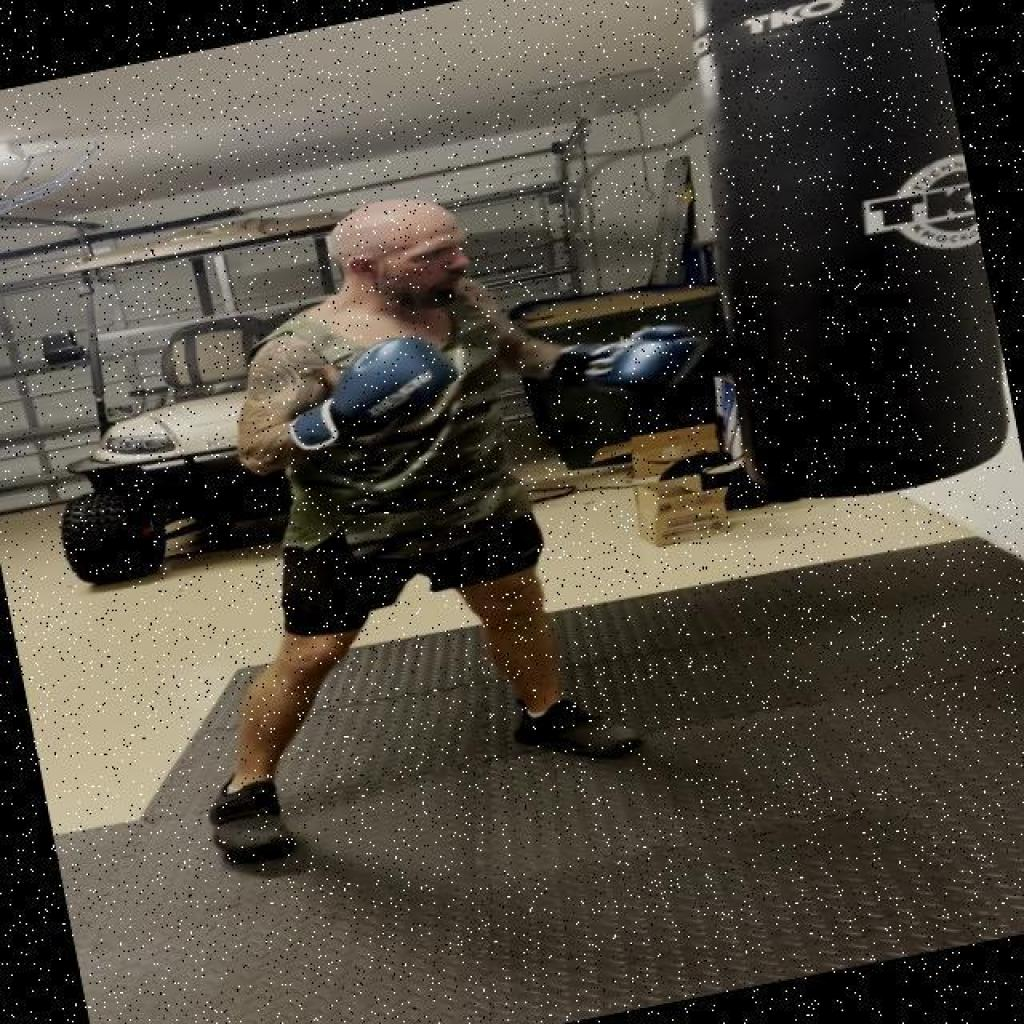bag: (654, 0, 1024, 515)
hook: (165, 59, 747, 512)
